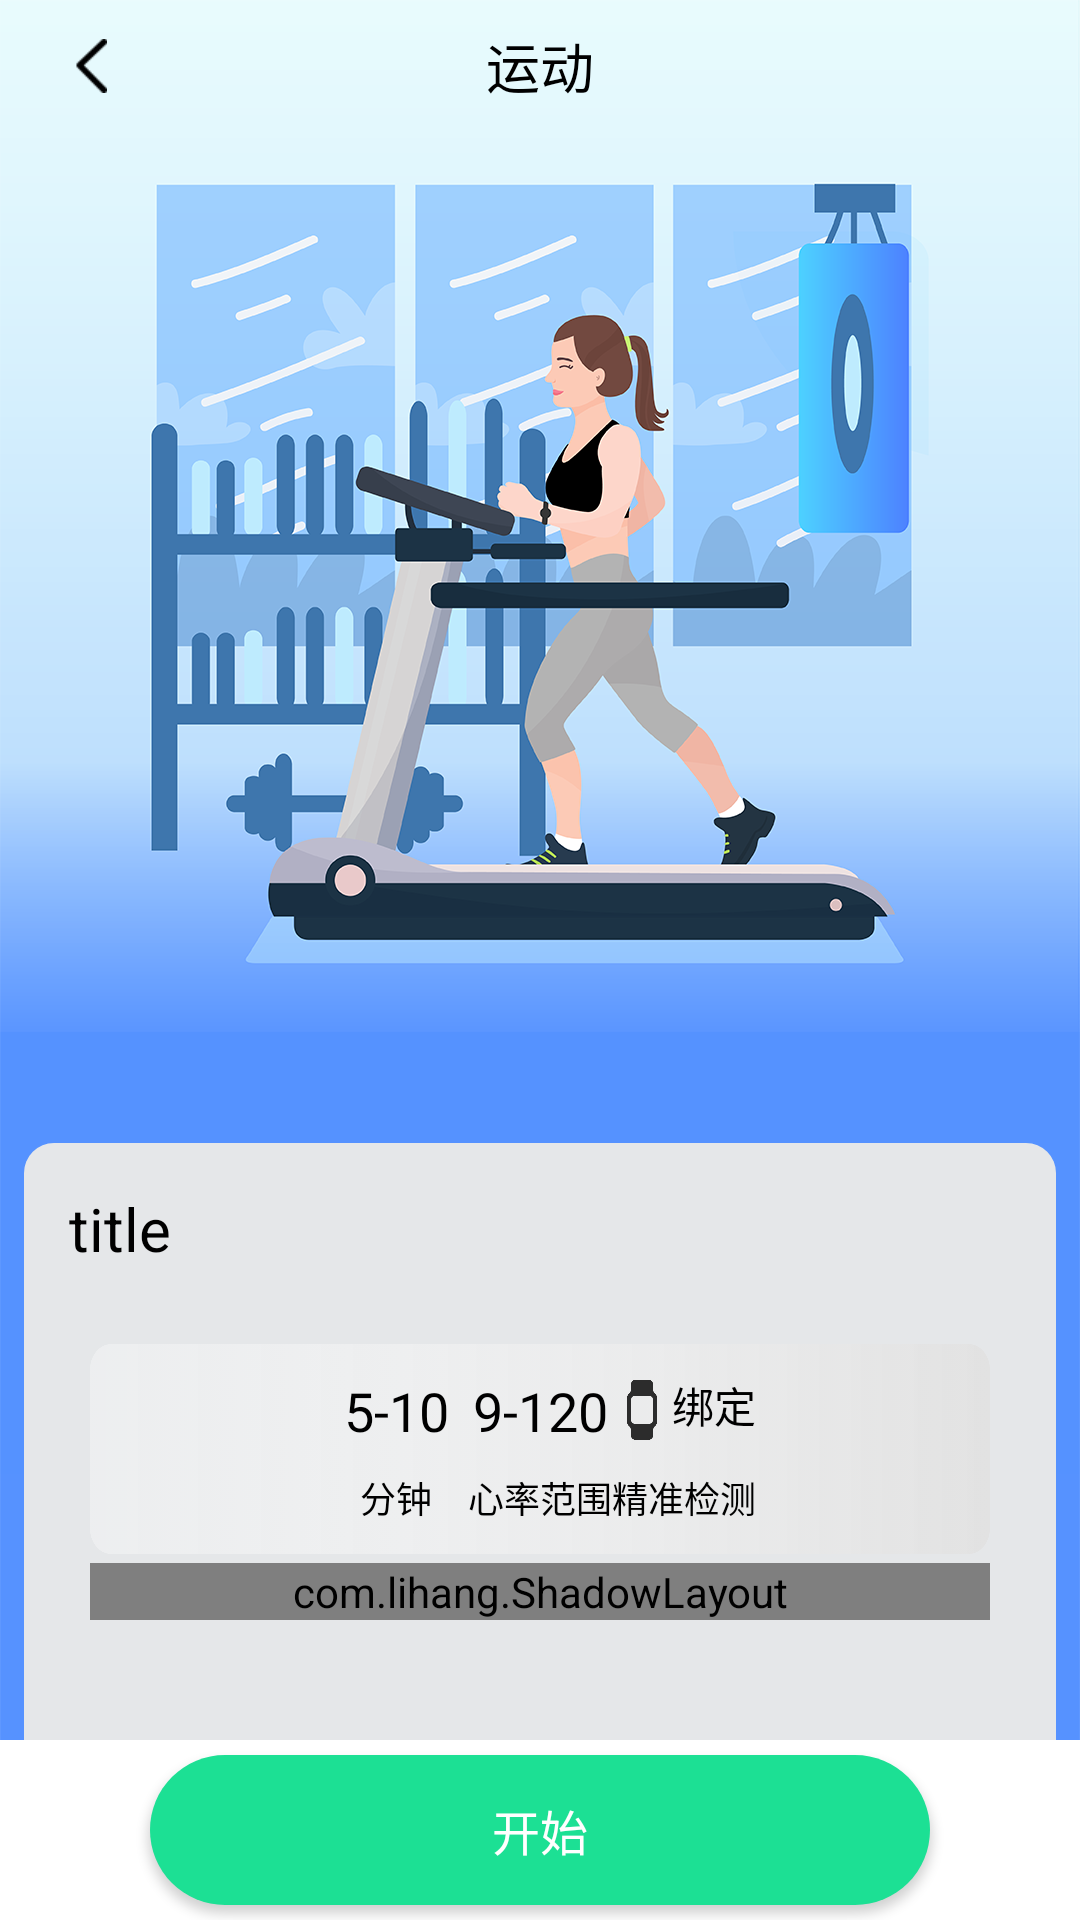

Screen size 1080 × 1920. Icon name, then its box in pixels as (x1, y1, x2, y2):
watch block iv: (627, 1380, 657, 1440)
